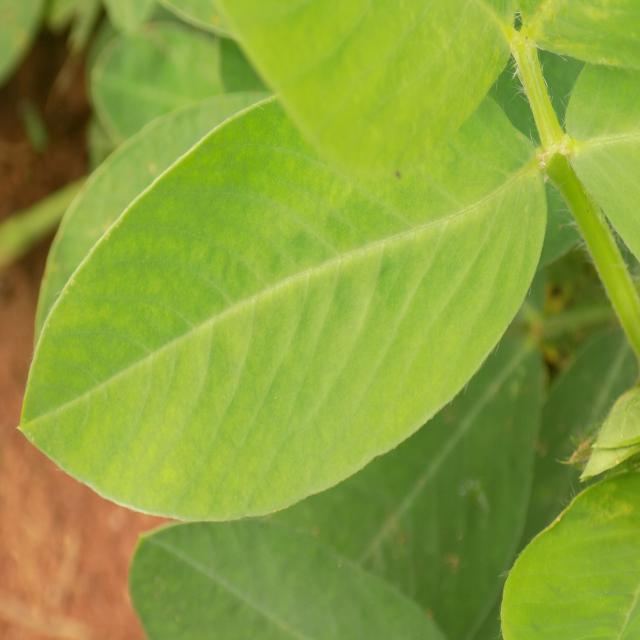Ground nut_healthy: (25, 73, 550, 523)
